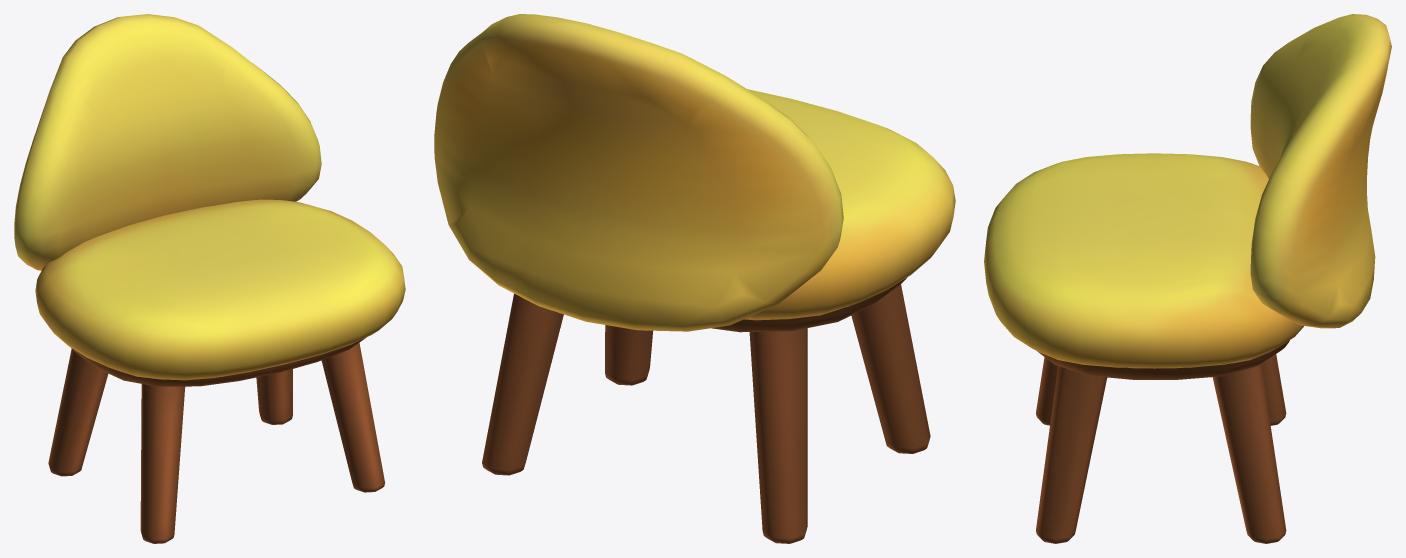
The model's file is DengZi1.FBX.
The picture shows the model from 3 angles, left to right: view 1: azimuth 30°, elevation 25°; view 2: azimuth 150°, elevation 25°; view 3: azimuth 270°, elevation 25°; orthographic projection. The views are drawn at different scales.
Parts seen in each view (by area): view 1: DengZi; view 2: DengZi; view 3: DengZi.
Part boxes in pixels (x1,y1,x2,y2): DengZi: (14,14,405,543); DengZi: (434,14,955,543); DengZi: (984,14,1391,543).
Size of the model in its own units: 86.21 by 102 by 84.
